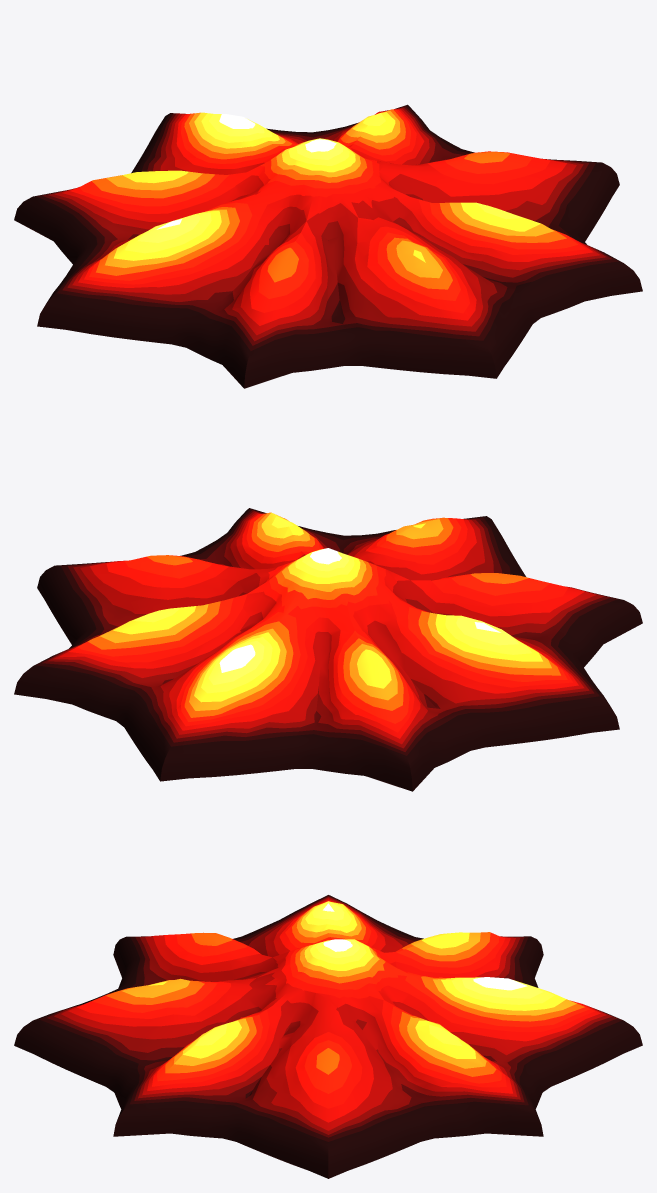
The model's file is lava_star_280.glb.
3 views of the same model, one above another, from view 1: azimuth 30°, elevation 25°; view 2: azimuth 150°, elevation 25°; view 3: azimuth 270°, elevation 25° (orthographic). The views are drawn at different scales.
Visible parts, largest first — view 1: lava_star; view 2: lava_star; view 3: lava_star.
Boxes of the visible parts, x1,y1,x2,y2 form: lava_star: (14, 104, 642, 388); lava_star: (14, 508, 642, 791); lava_star: (14, 895, 642, 1178).
Size of the model in its own units: 19 by 7.6 by 19.
